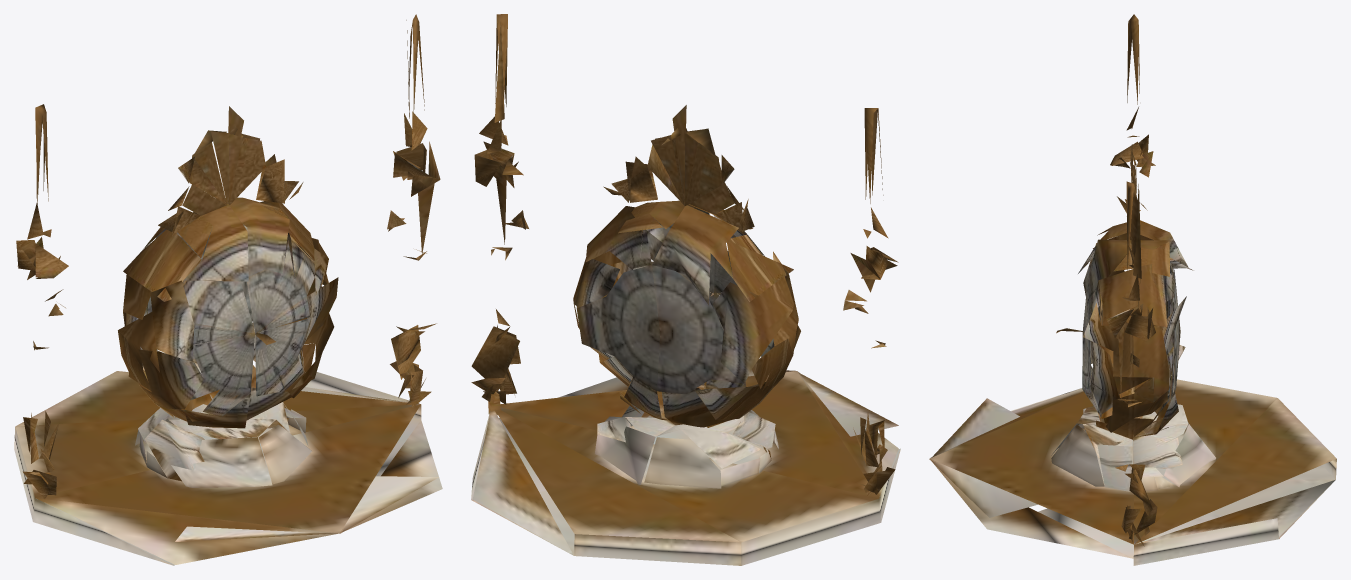
File: keepsake-lift-dial.lod1.glb
3 views of the same model, side by side, from view 1: azimuth 30°, elevation 25°; view 2: azimuth 150°, elevation 25°; view 3: azimuth 270°, elevation 25° (orthographic). The views are drawn at different scales.
Visible parts, largest first — view 1: keepsake-lift-dial_lod1; view 2: keepsake-lift-dial_lod1; view 3: keepsake-lift-dial_lod1.
Boxes of the visible parts, box(x1,y1,x2,y2) form: keepsake-lift-dial_lod1: box(14, 14, 442, 565); keepsake-lift-dial_lod1: box(471, 14, 900, 565); keepsake-lift-dial_lod1: box(929, 14, 1336, 565).
Bounding box in the file's own units: 0.8194 × 0.7898 × 0.7686.
1 material, 1 textured.
